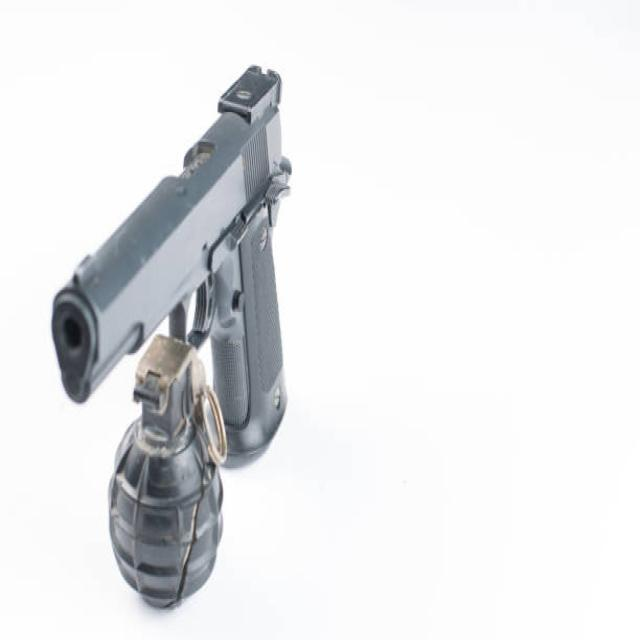grenade: (108, 328, 234, 608)
